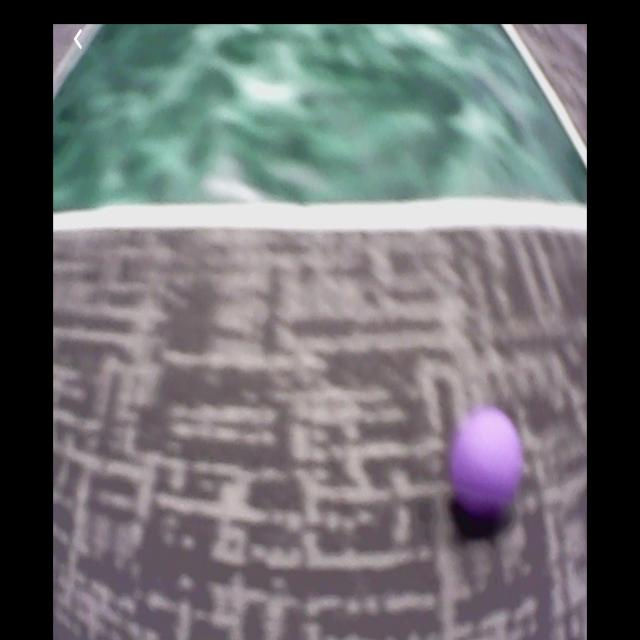ball: (452, 411, 524, 520)
